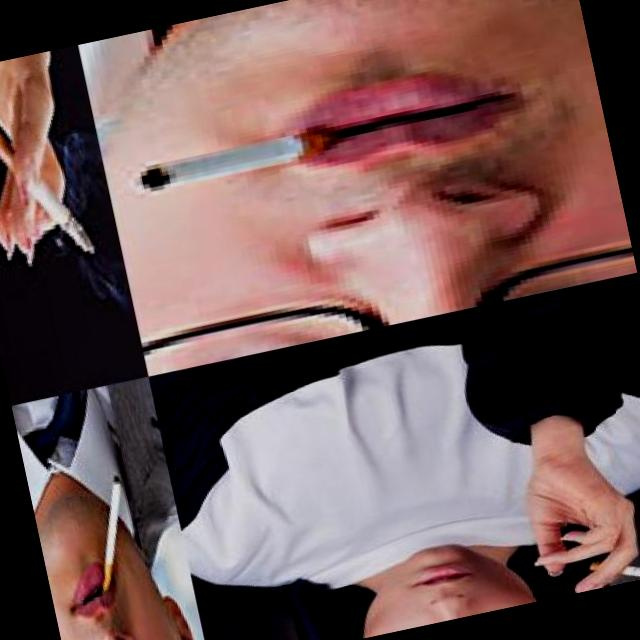smoke: (0, 116, 98, 272), (126, 129, 327, 204), (77, 477, 146, 601), (587, 539, 640, 589)
